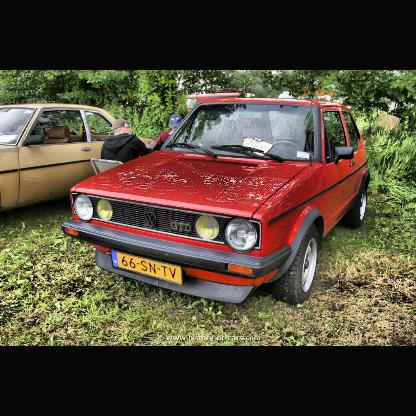Volkswagen Golf Hatchback 1991: (62, 99, 374, 308)
